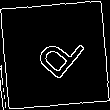P_SW: (25, 24, 85, 86)
